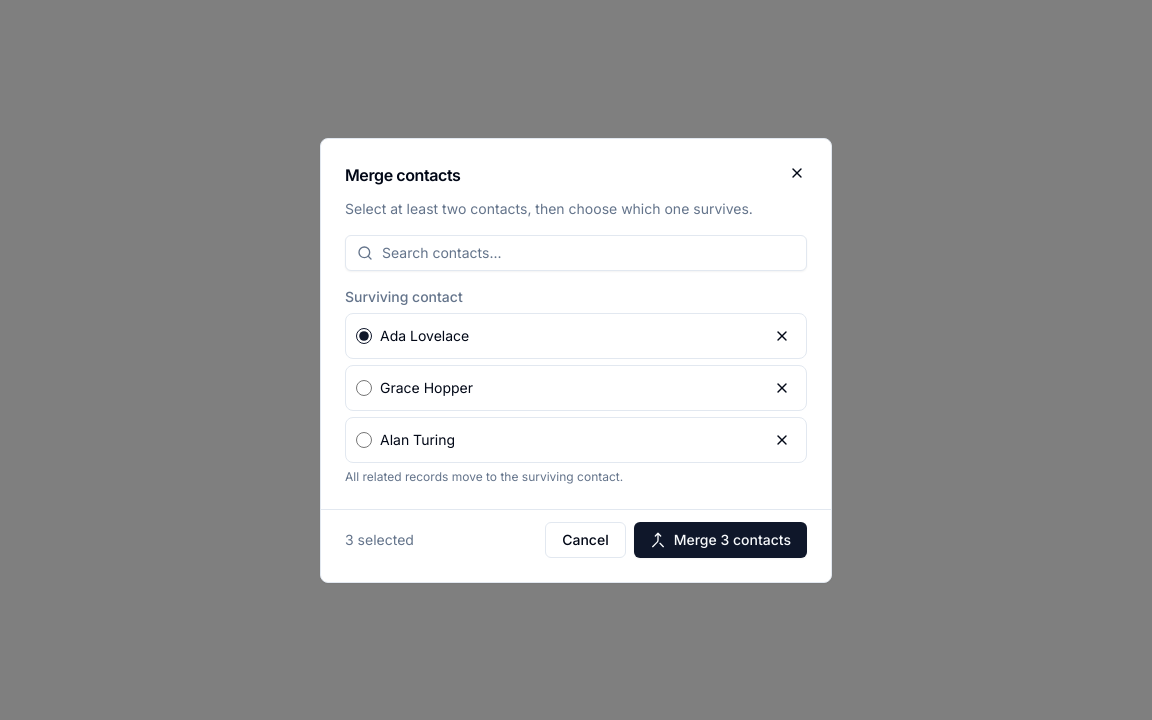
MergeContactsDialog › surfaces a merge failure without closing the dialog
Click the button "Merge 3 contacts" at x=720, y=540, box [634,522,807,558]
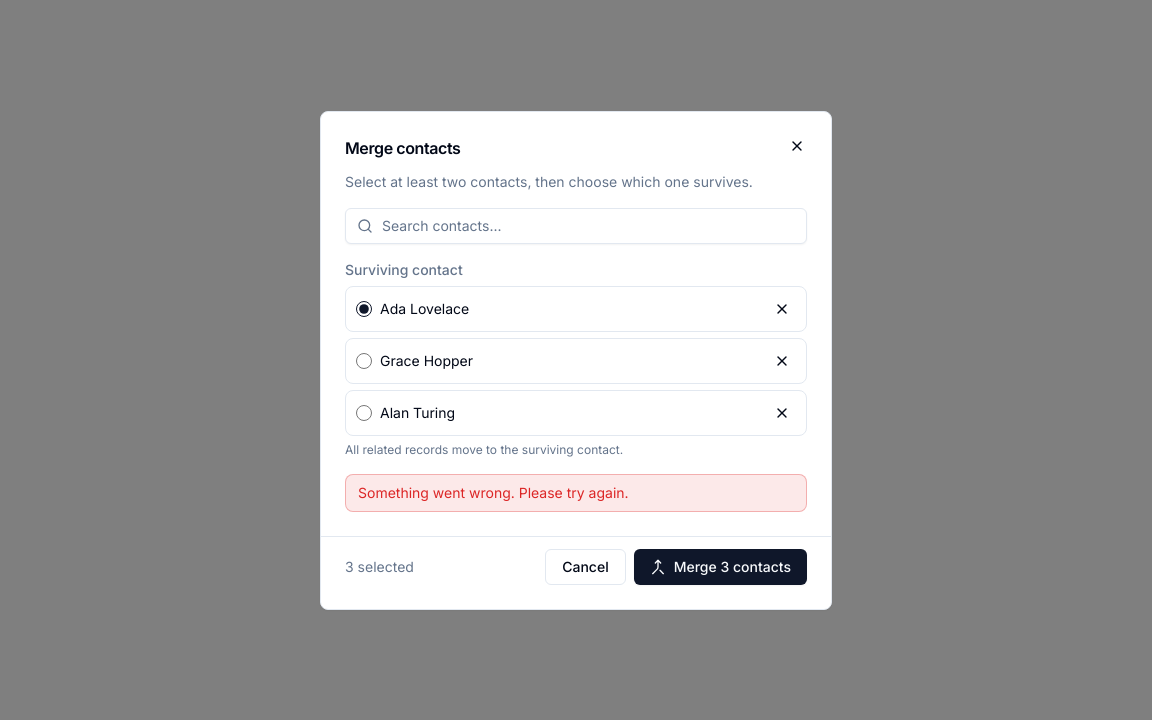
Expected: the message "Something went wrong. Please try again." is shown, [345,474,807,512]
Expected: the message shows "Something went wrong", [358,484,629,500]
